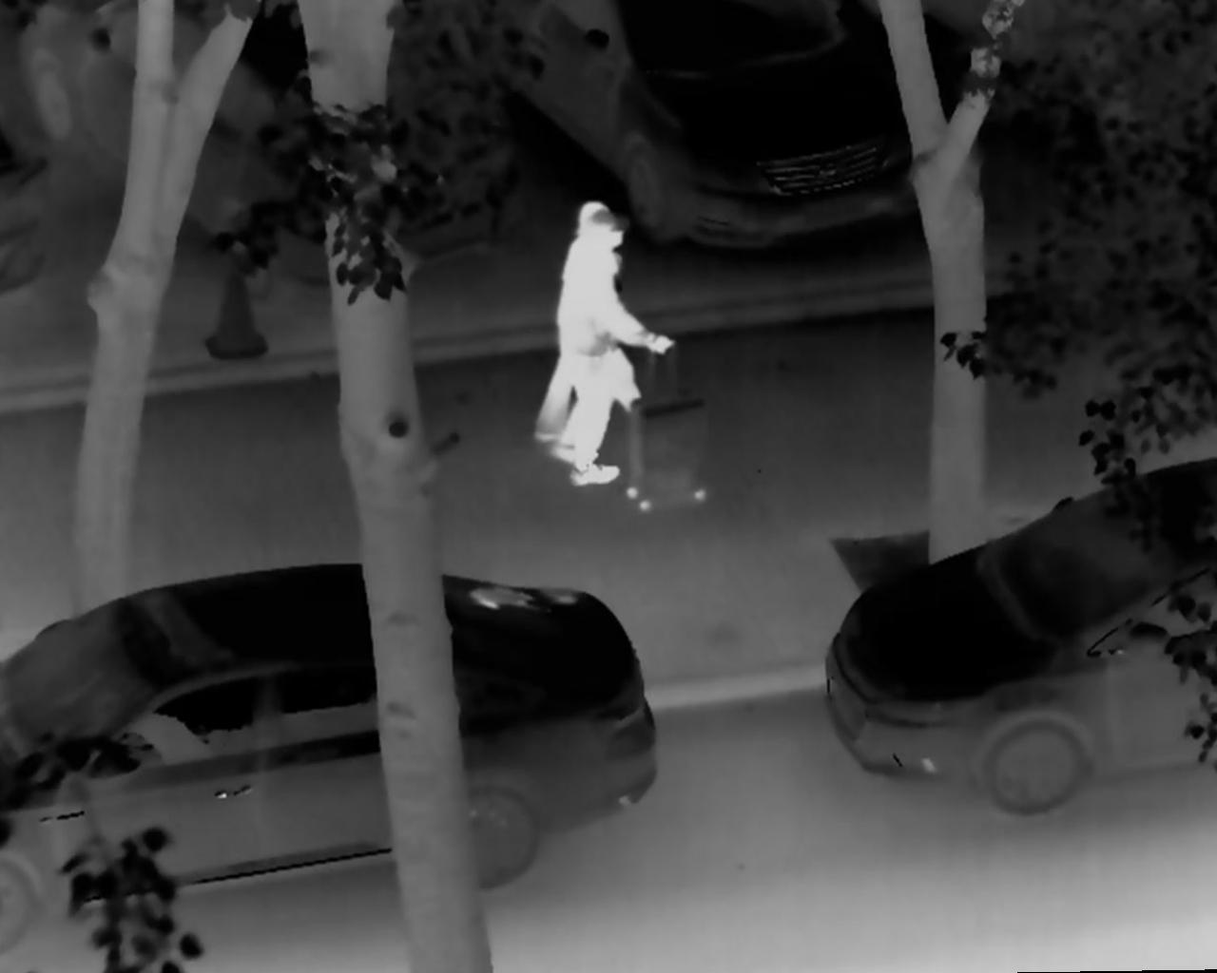person: (551, 215, 680, 491), (528, 195, 649, 449)
